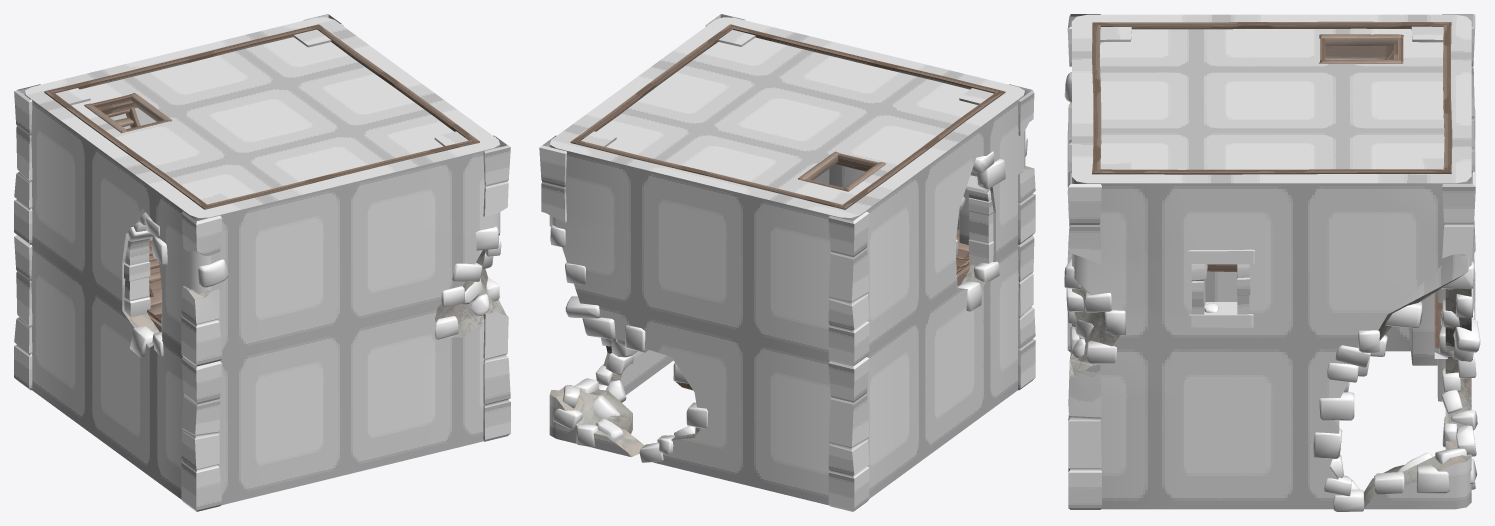
File: SM_TowerE_Ruined_03.fbx
3 renders of one model, left to right at view 1: azimuth 30°, elevation 25°; view 2: azimuth 150°, elevation 25°; view 3: azimuth 270°, elevation 25°, orthographic. The views are drawn at different scales.
Visible parts, largest first — view 1: SM_TowerE_Ruined_03_LOD0; view 2: SM_TowerE_Ruined_03_LOD0; view 3: SM_TowerE_Ruined_03_LOD0.
Boxes of the visible parts, box(x1,y1,x2,y2) form: SM_TowerE_Ruined_03_LOD0: box(14, 14, 510, 511); SM_TowerE_Ruined_03_LOD0: box(539, 14, 1035, 511); SM_TowerE_Ruined_03_LOD0: box(1064, 14, 1480, 511).
Bounding box in the file's own units: 1036 × 1042 × 922.
